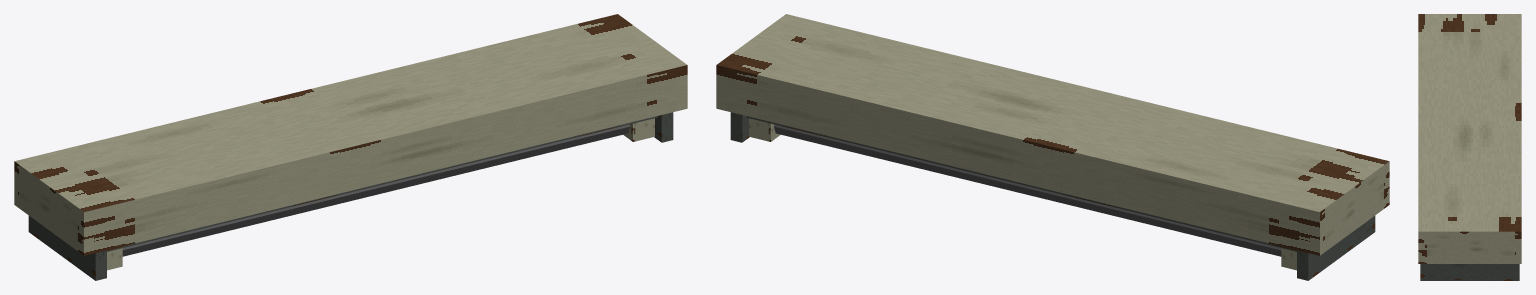
The model's file is fluorescent_light.glb.
3 views of the same model, side by side, from view 1: azimuth 30°, elevation 25°; view 2: azimuth 150°, elevation 25°; view 3: azimuth 270°, elevation 25° (orthographic). The views are drawn at different scales.
Visible parts, largest first — view 1: Export_Fluorescent_Light_Structure, Export_Fluorescent_Light; view 2: Export_Fluorescent_Light_Structure, Export_Fluorescent_Light; view 3: Export_Fluorescent_Light_Structure.
Boxes of the visible parts, <box> form: Export_Fluorescent_Light_Structure: <box>14,14,687,280</box>; Export_Fluorescent_Light: <box>122,124,629,256</box>; Export_Fluorescent_Light_Structure: <box>716,14,1389,280</box>; Export_Fluorescent_Light: <box>774,124,1281,256</box>; Export_Fluorescent_Light_Structure: <box>1418,14,1521,280</box>.
Size of the model in its own units: 1.3 by 0.15 by 0.26.
Materials: 2 (1 with a texture image).
